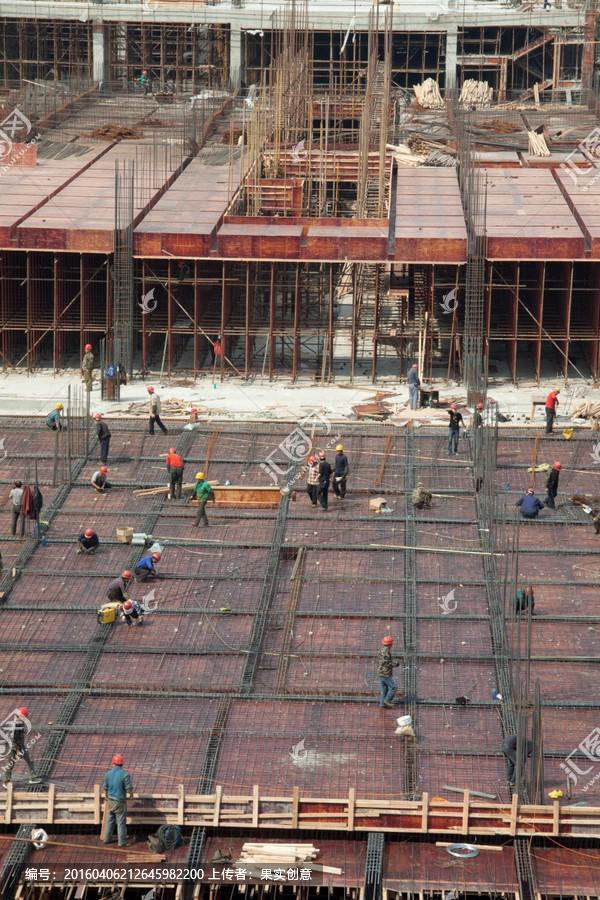helmet: (30, 829, 50, 848), (13, 709, 35, 720), (81, 528, 96, 543), (383, 633, 397, 649), (113, 752, 126, 768), (523, 585, 535, 599), (122, 600, 135, 611), (152, 553, 165, 564), (123, 571, 134, 584), (336, 444, 349, 454), (56, 404, 70, 413), (307, 456, 319, 466), (475, 401, 488, 410), (195, 472, 208, 481), (415, 481, 428, 490), (167, 450, 183, 457), (82, 345, 94, 354), (148, 388, 159, 397), (317, 452, 330, 459), (99, 466, 108, 476), (526, 487, 537, 495), (450, 404, 461, 412), (555, 388, 564, 396), (94, 413, 104, 420), (555, 463, 562, 471), (413, 365, 420, 371)
